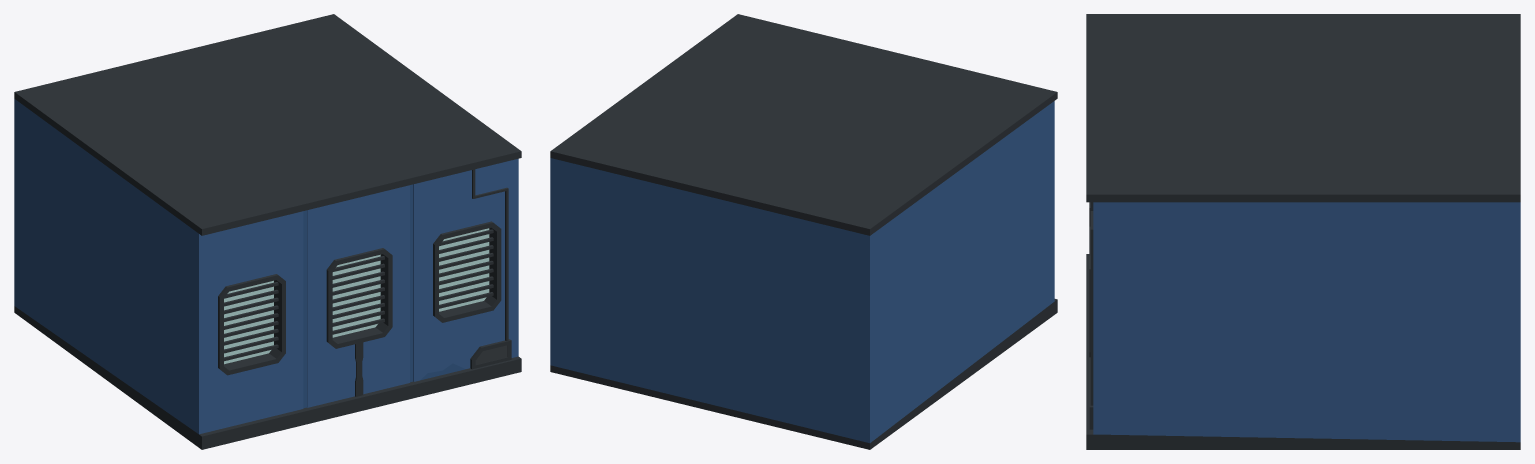
File: SM_BuildingPart_16.fbx
3 views of the same model, side by side, from view 1: azimuth 30°, elevation 25°; view 2: azimuth 150°, elevation 25°; view 3: azimuth 270°, elevation 25° (orthographic). The views are drawn at different scales.
Parts seen in each view (by area): view 1: SM_BuildingPart_16; view 2: SM_BuildingPart_16; view 3: SM_BuildingPart_16.
Boxes of the visible parts, bbox=[...] form: SM_BuildingPart_16: bbox=[14, 14, 521, 449]; SM_BuildingPart_16: bbox=[550, 14, 1057, 449]; SM_BuildingPart_16: bbox=[1086, 14, 1520, 449].
Size of the model in its own units: 500 by 330 by 508.
